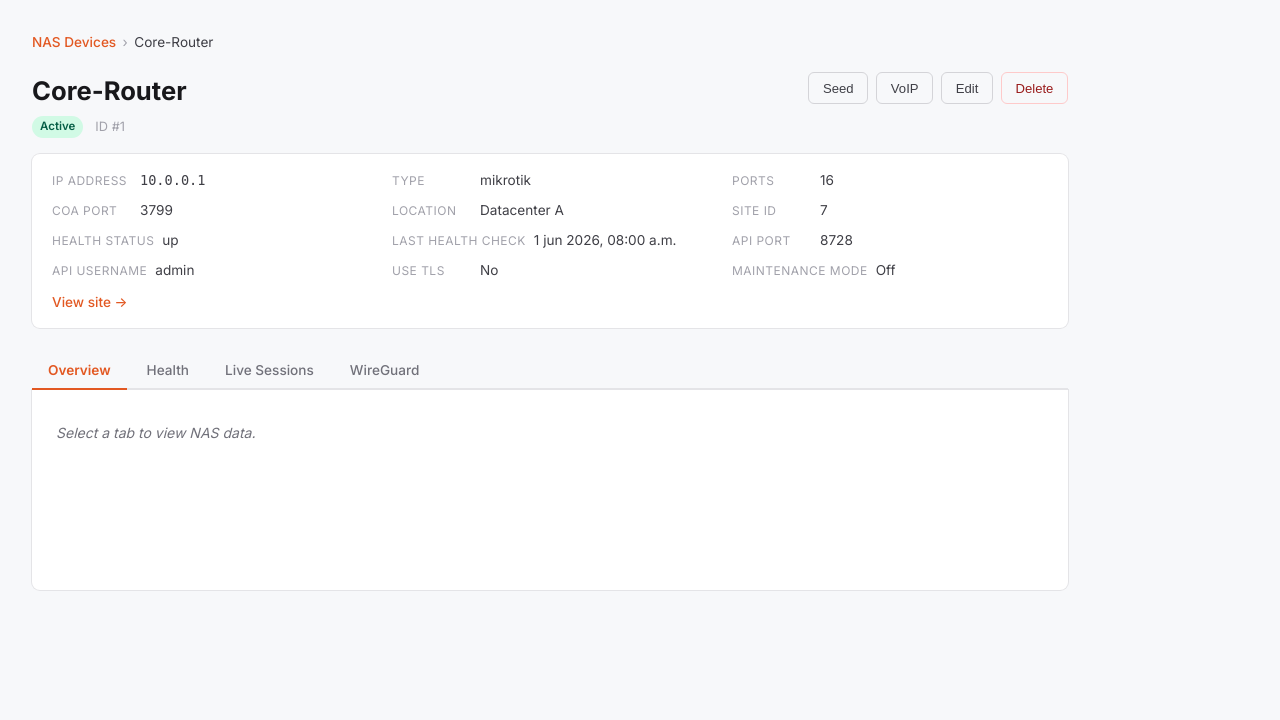
Scenario: NasDetail page › shows the health-check result inside the Health tab (not a far-away banner)
Expected: the heading "Core-Router" is shown, [32,72,187,111]
Click the button "Health".
click(168, 371)  # box [131,352,205,390]
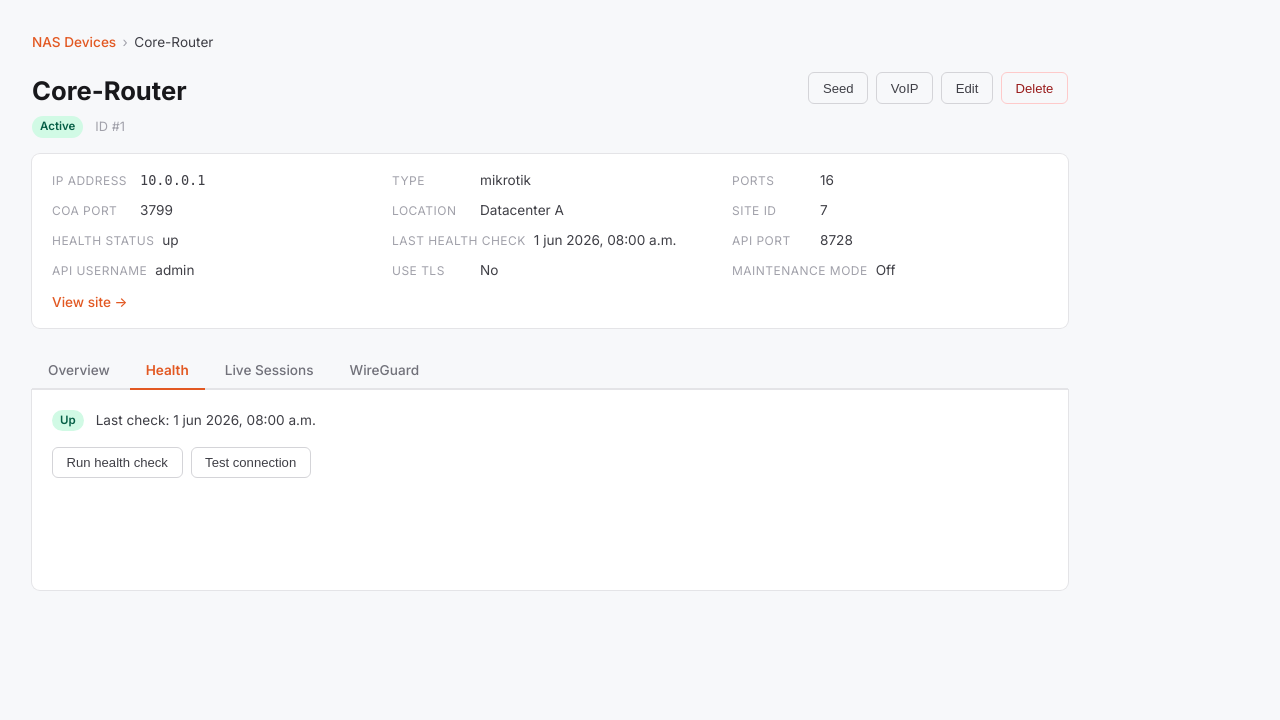
Expected: the button "Run health check" is shown
Click the button "Run health check".
click(117, 462)  # box [52,447,182,478]
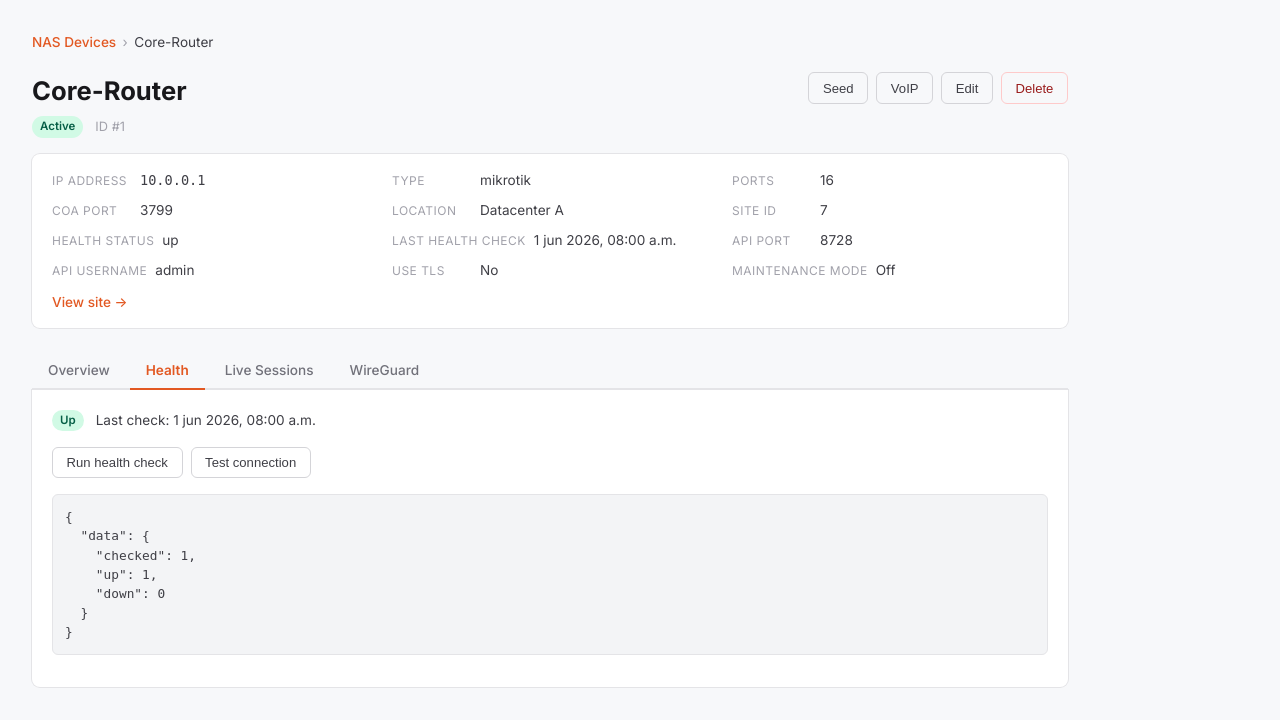
Expected: the text "{ \"data\": { \"checked\": 1, \"up\": 1, \"down\": 0 } }" is shown, [52,494,1048,654]
